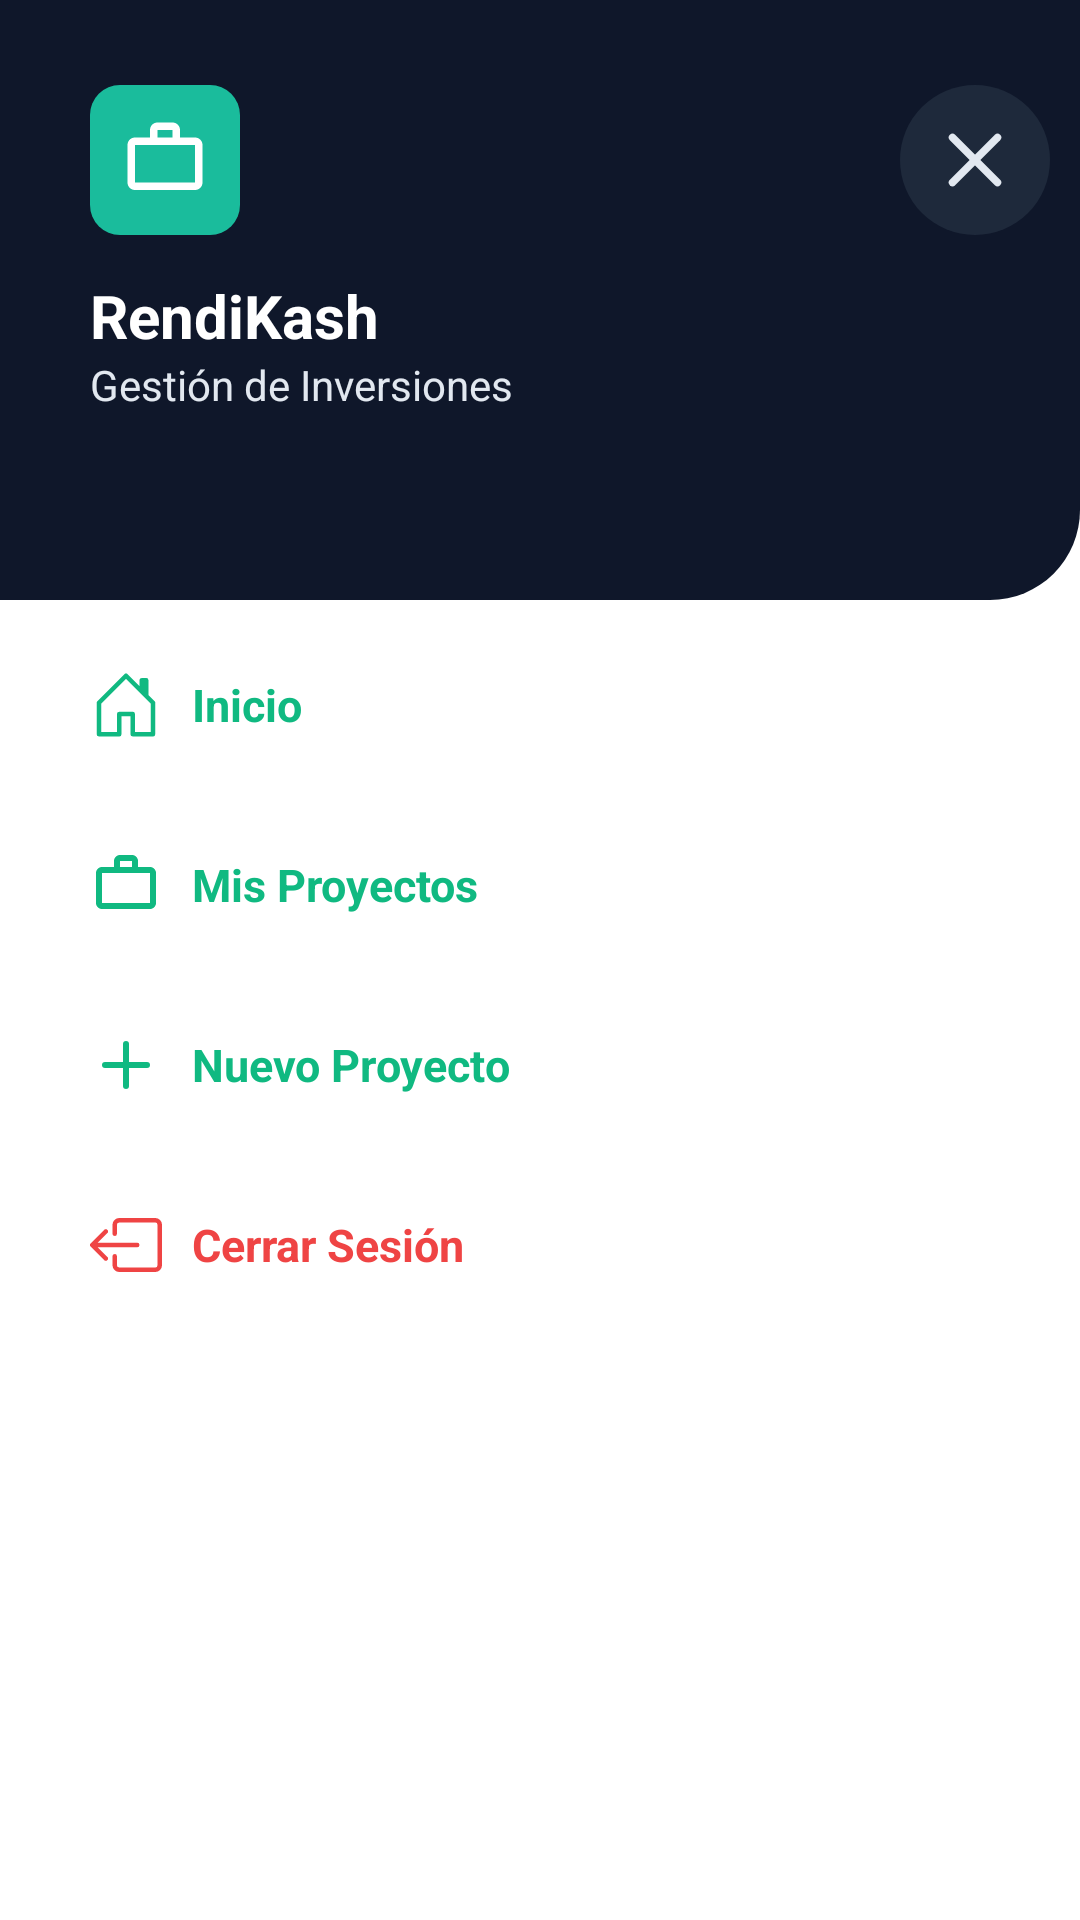

Point at icon controls on the screen. Image size 1080×1920, points as (x=x, y=y).
briefcase: (x=165, y=156), (x=126, y=882)
home: (x=126, y=705)
plus verde: (x=126, y=1065)
salir: (x=126, y=1245)
